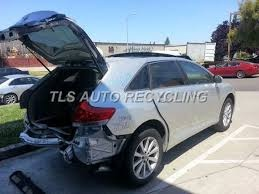Smashed: (19, 120, 121, 164)
